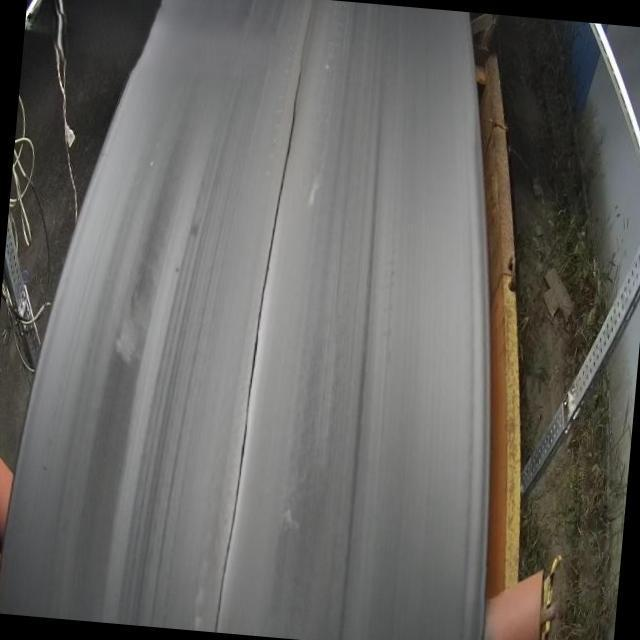Tear: (206, 41, 313, 640)
